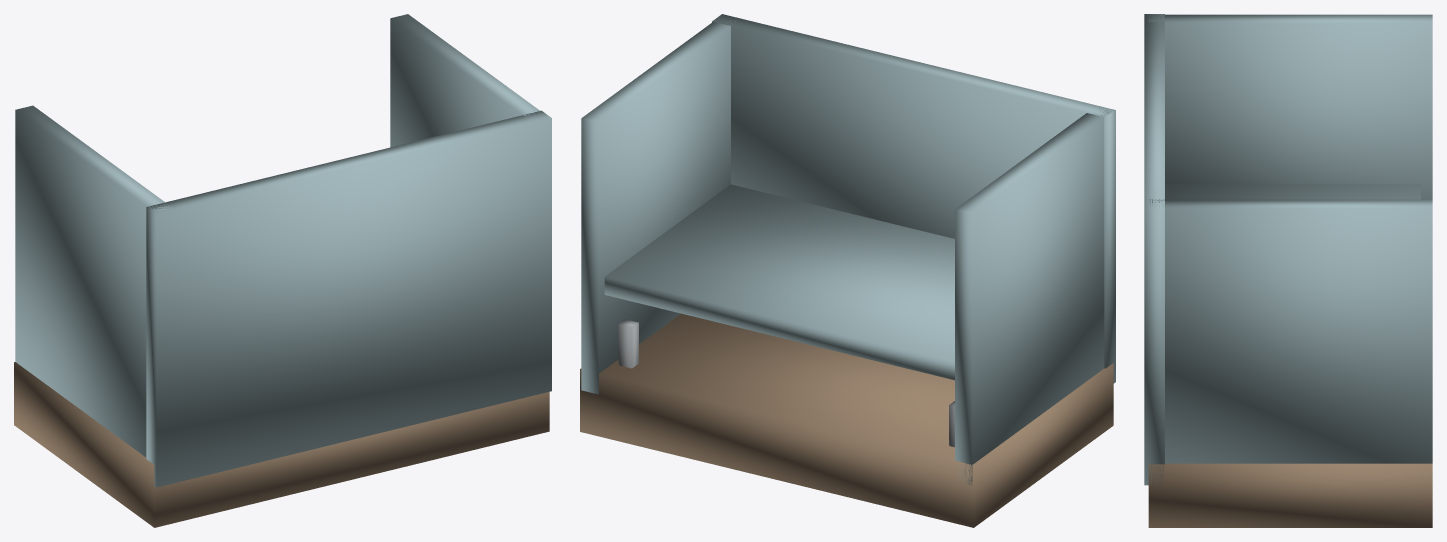
The model's file is pastry_case__reinforced.glb.
3 renders of one model, left to right at view 1: azimuth 30°, elevation 25°; view 2: azimuth 150°, elevation 25°; view 3: azimuth 270°, elevation 25°, orthographic.
Parts seen in each view (by area): view 1: world; view 2: world; view 3: world.
Part boxes in pixels (<box>): world: <box>14,14,551,527</box>; world: <box>580,14,1115,527</box>; world: <box>1144,14,1432,527</box>.
Size of the model in its own units: 0.8034 by 0.612 by 0.5021.
